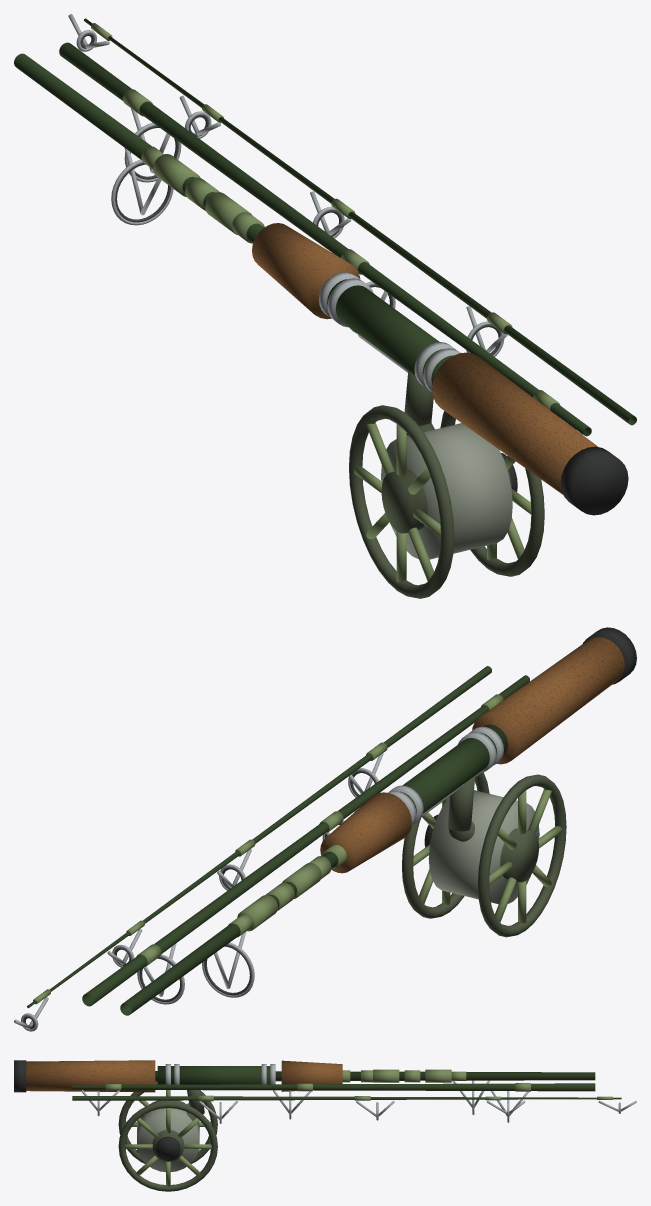
Rendered from willow_fly_folded.glb.
3 renders of one model, top to bottom at view 1: azimuth 30°, elevation 25°; view 2: azimuth 150°, elevation 25°; view 3: azimuth 270°, elevation 25°, orthographic. The views are drawn at different scales.
Parts seen in each view (by area): view 1: Folded rod; view 2: Folded rod; view 3: Folded rod.
Boxes of the visible parts, <box> form: Folded rod: <box>14,14,636,598</box>; Folded rod: <box>14,627,636,1031</box>; Folded rod: <box>14,1060,636,1191</box>.
Size of the model in its own units: 0.1067 by 0.1505 by 0.7147.
8 materials, 1 textured.
